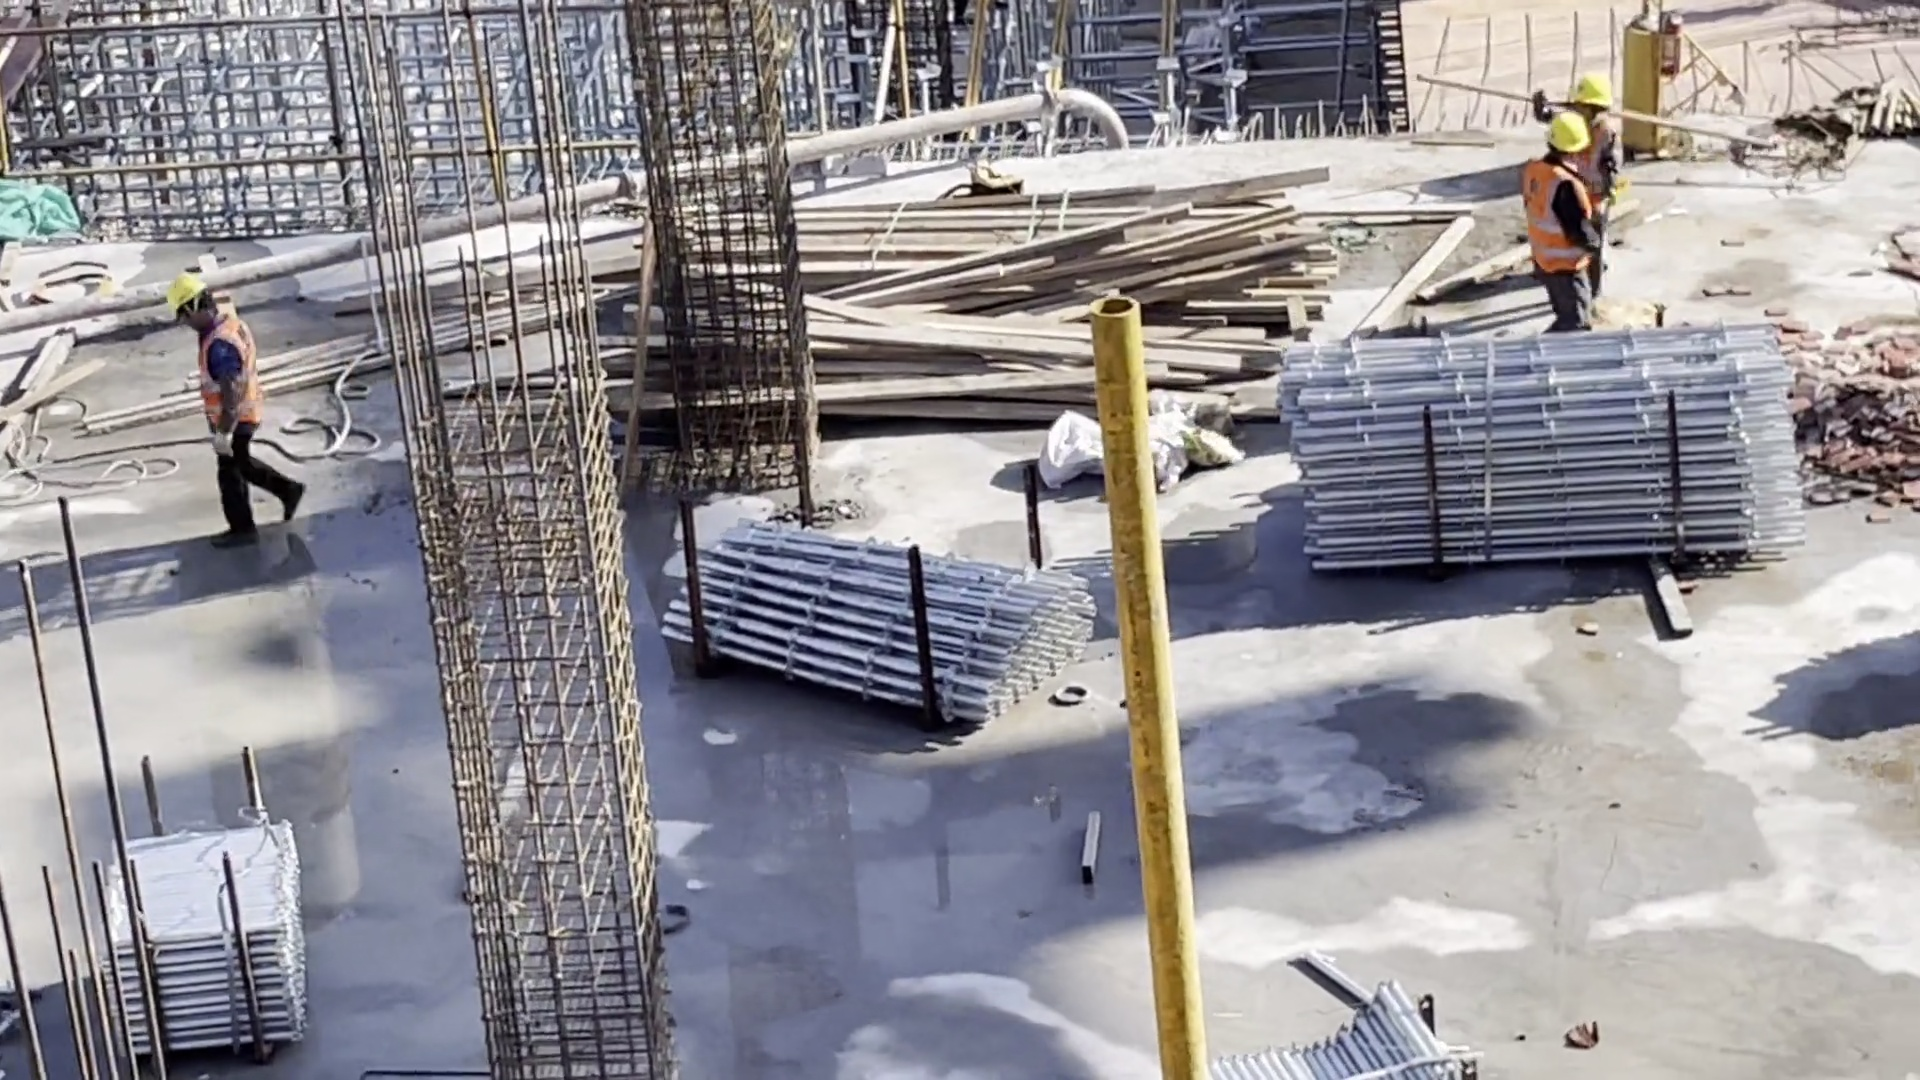helmet: (1544, 107, 1588, 156), (167, 268, 210, 315), (1572, 73, 1617, 113)
person: (168, 268, 304, 551), (1519, 116, 1601, 332), (1574, 75, 1623, 224)
scaffold: (1276, 323, 1808, 569), (663, 523, 1096, 730), (100, 816, 313, 1047), (1196, 968, 1472, 1080)
vest: (195, 319, 262, 445), (1527, 157, 1594, 277)
wood: (799, 191, 1295, 428)
